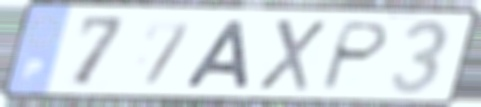3: (388, 17, 454, 97)
7: (72, 14, 127, 91), (139, 20, 192, 86)
A: (181, 18, 253, 91)
P: (316, 19, 392, 93)
X: (254, 17, 329, 94)
